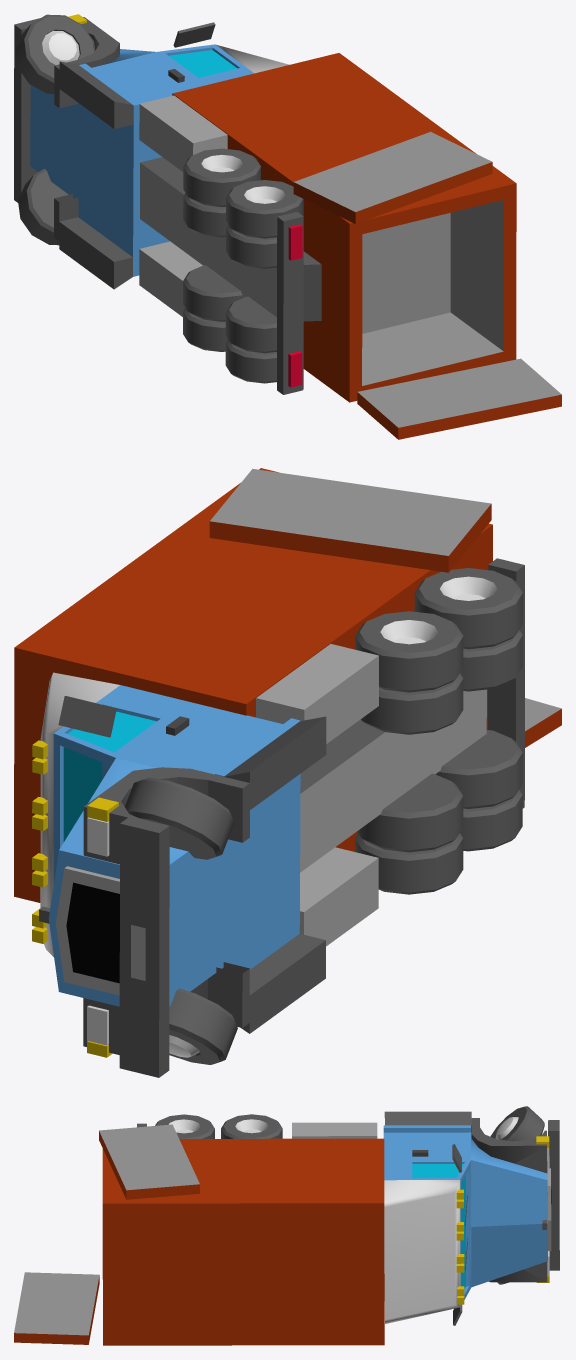
Rendered from track_2.fbx.
The picture shows the model from 3 angles, top to bottom: view 1: azimuth 30°, elevation 25°; view 2: azimuth 150°, elevation 25°; view 3: azimuth 270°, elevation 25°; orthographic projection. The views are drawn at different scales.
Visible parts, largest first — view 1: track_2; view 2: track_2; view 3: track_2.
Part boxes in pixels (<box>): track_2: <box>14,14,561,439</box>; track_2: <box>14,468,561,1077</box>; track_2: <box>14,1106,559,1345</box>.
Size of the model in its own units: 618 by 542 by 1577.
